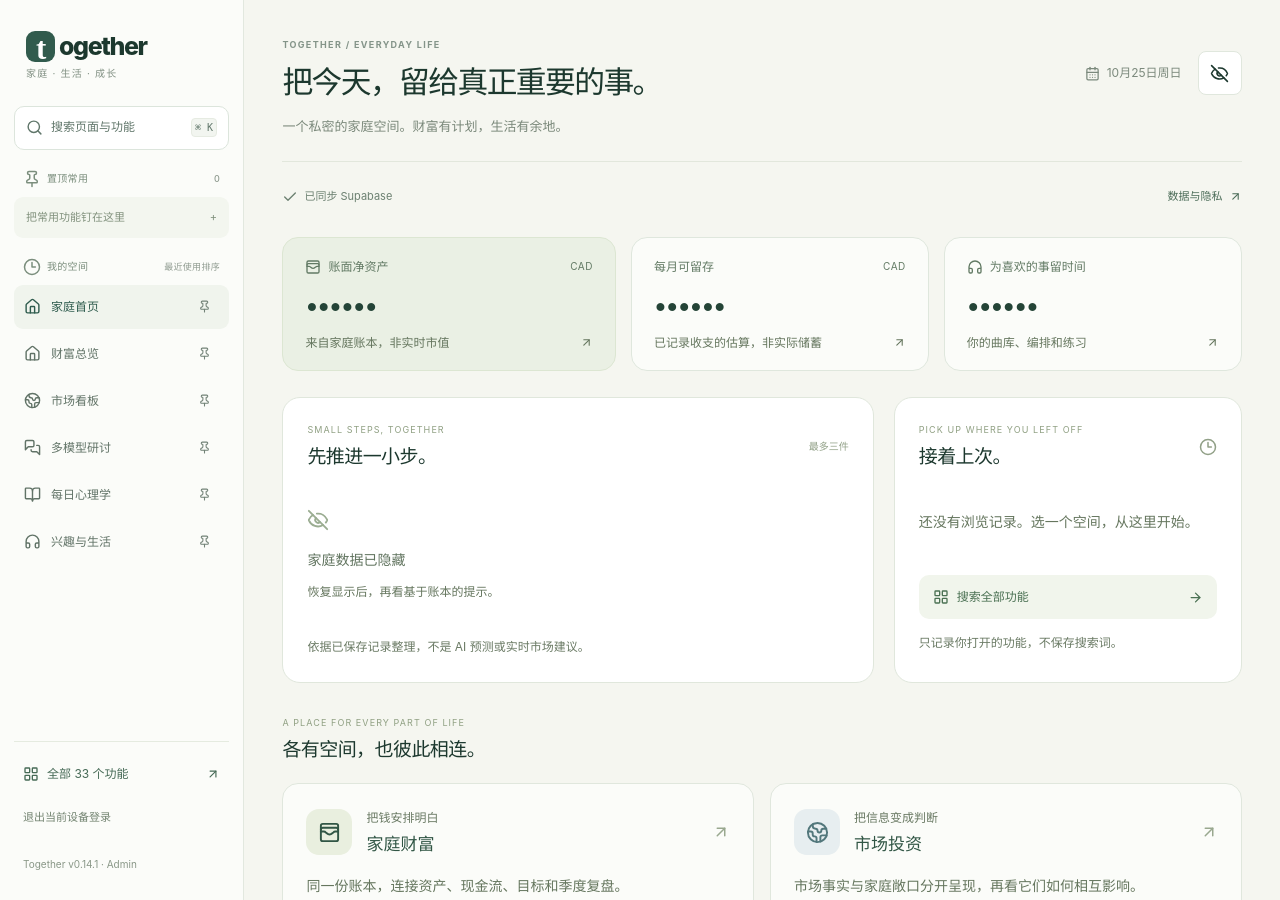
隐藏偏好从首屏到恢复都不泄露姓名、金额与行动明细，切换沿用全站键
expect the text "SYNTHETIC_PRIVATE" is not shown: met
expect the text "1,234,567" is not shown: met
Click the button named "显示家庭数据".
click(1220, 73)  # box [1198,51,1242,95]
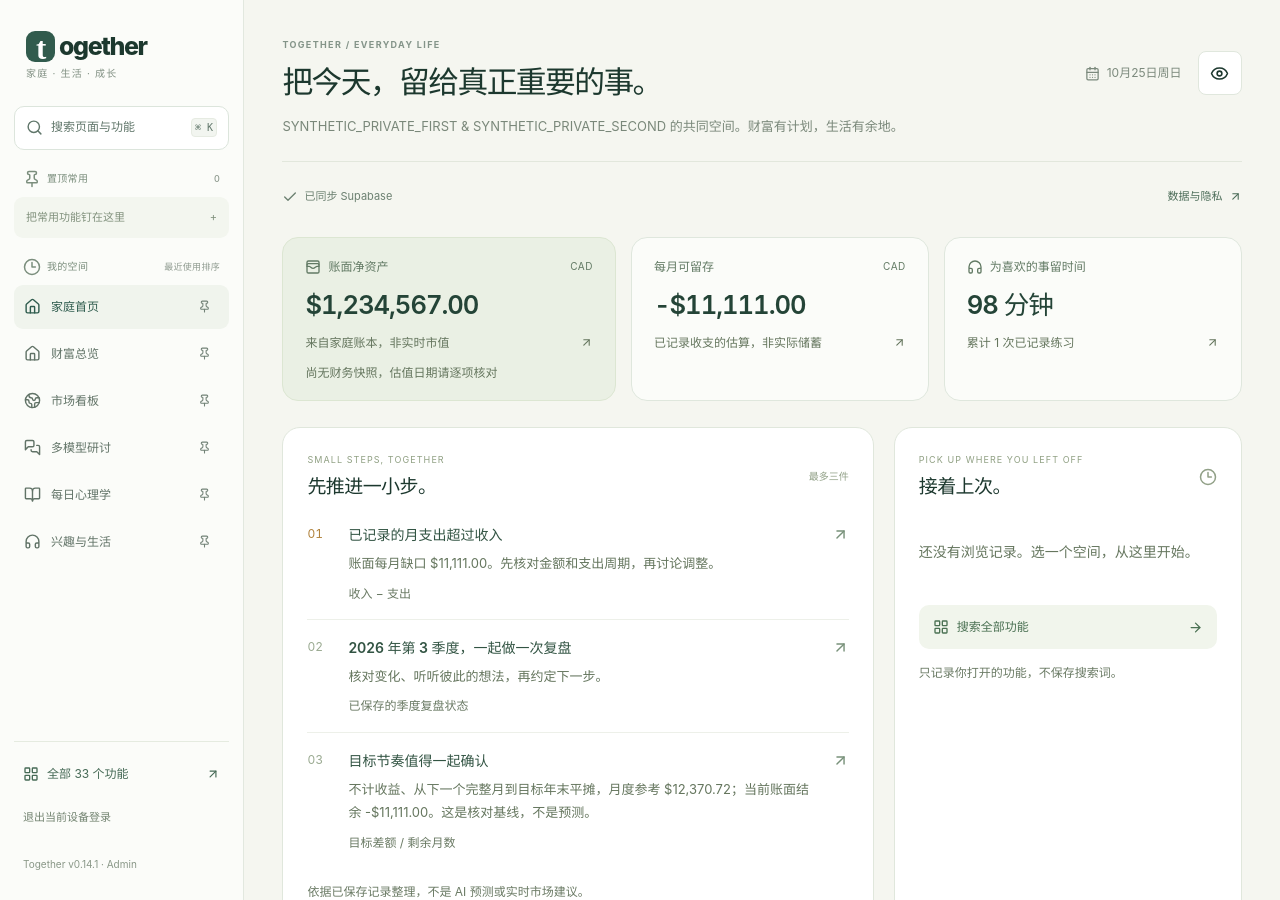
expect the text "SYNTHETIC_PRIVATE_FIRST" is shown: met, box [282,118,748,134]
expect the text "SYNTHETIC_PRIVATE_SECOND" is shown: met, box [282,118,748,134]
expect the text "1,234,567" is shown: met, box [305,290,478,320]
